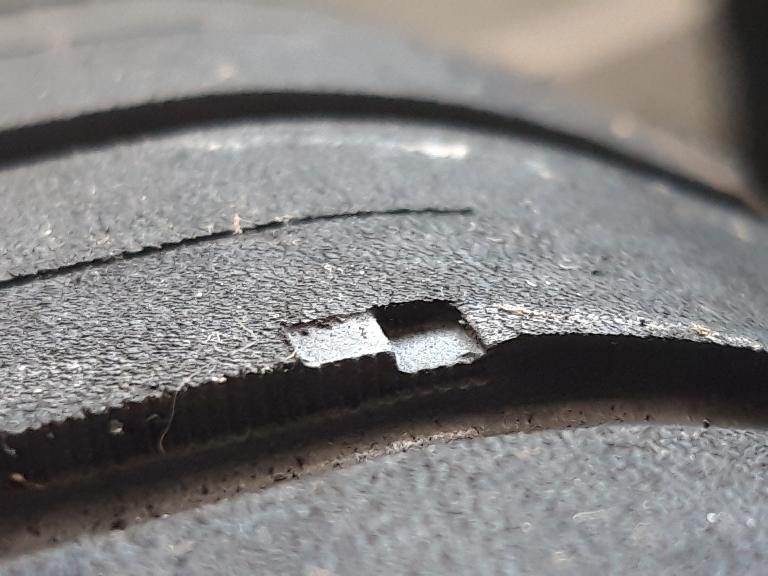temoin:25: (268, 287, 505, 428)
